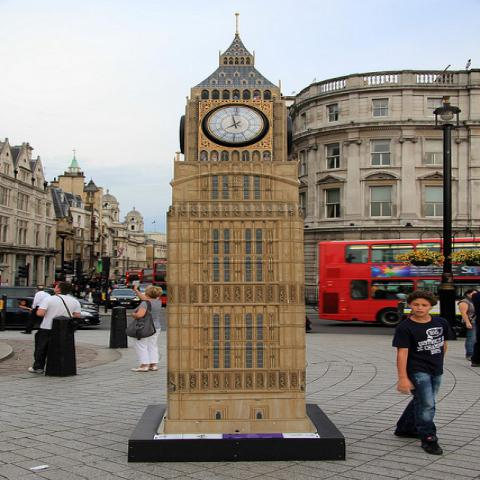bus: (316, 238, 480, 328), (154, 262, 167, 307), (126, 270, 142, 286), (140, 268, 154, 282)
car: (6, 298, 102, 329), (0, 285, 100, 311), (108, 288, 140, 309), (139, 284, 152, 292), (114, 284, 124, 287)
